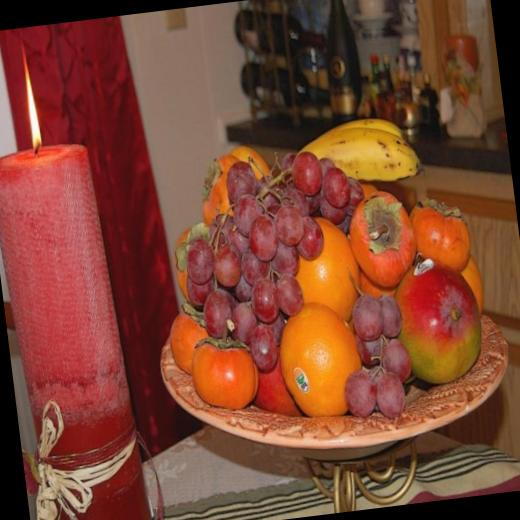Grape: (280, 298, 366, 422), (274, 204, 368, 314), (226, 134, 266, 180)
Orange: (172, 146, 382, 380), (331, 287, 419, 427)
